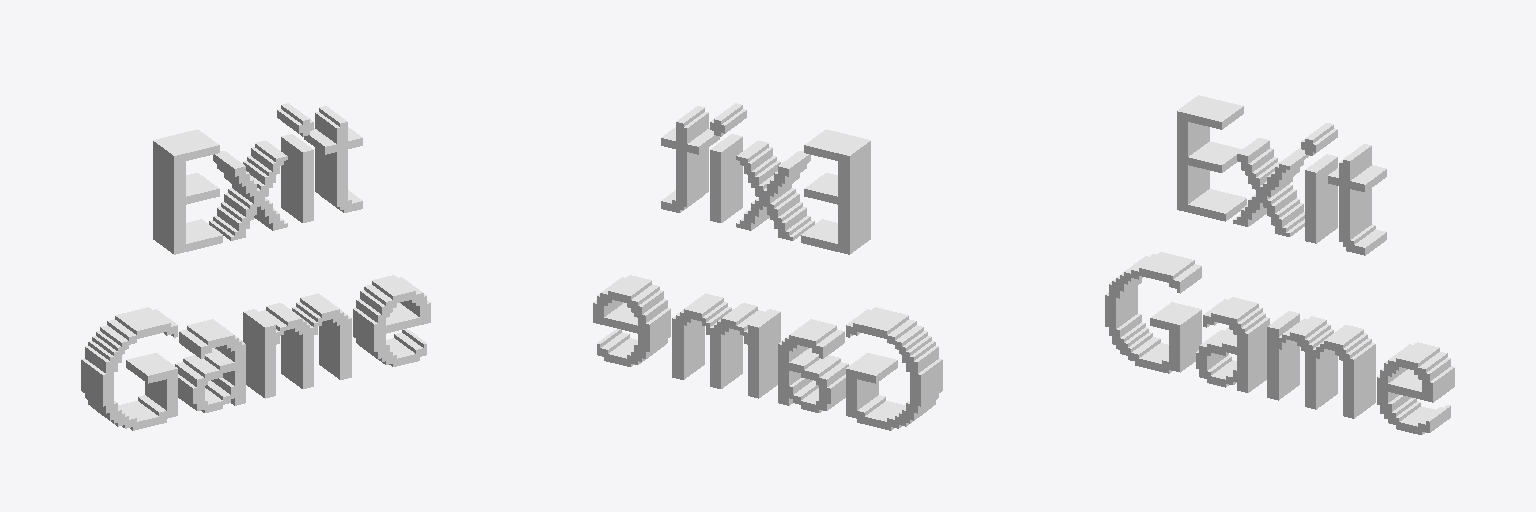
The model's file is ExitGame.obj.
3 renders of one model, left to right at view 1: azimuth 30°, elevation 25°; view 2: azimuth 150°, elevation 25°; view 3: azimuth 330°, elevation 25°, orthographic.
Bounding box in the file's own units: 8.7 × 6.8 × 1.